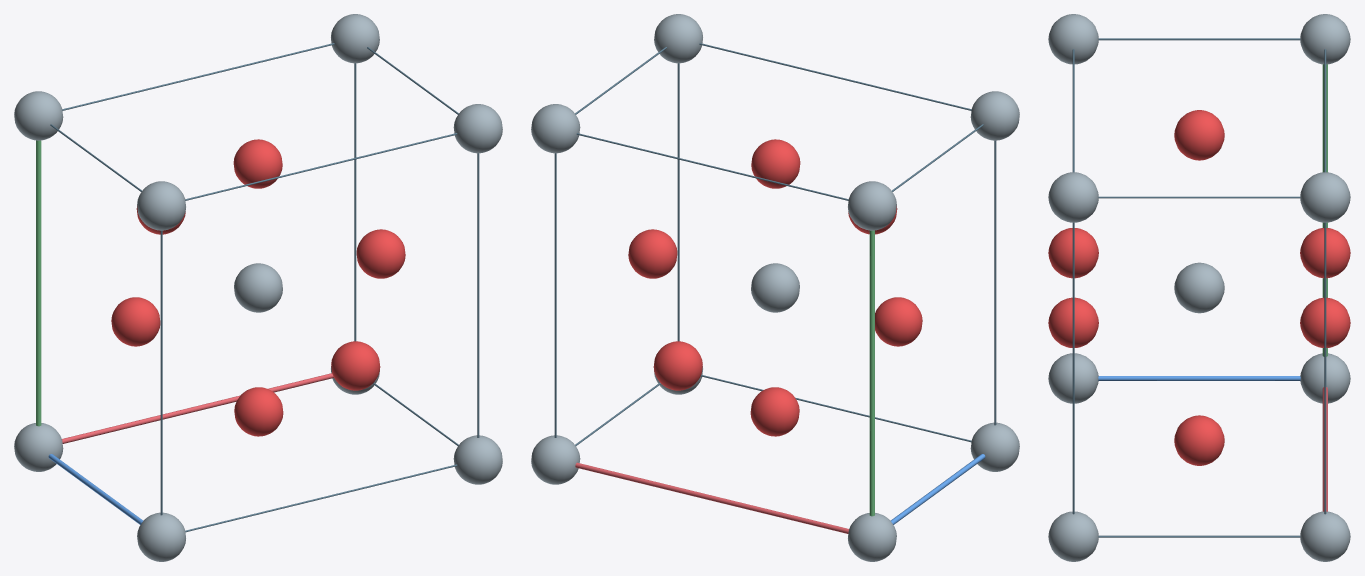
The model's file is cassiterite.glb.
3 renders of one model, left to right at view 1: azimuth 30°, elevation 25°; view 2: azimuth 150°, elevation 25°; view 3: azimuth 270°, elevation 25°, orthographic. The views are drawn at different scales.
Parts seen in each view (by area): view 1: Sn · Sn · 1 (×8), O · O · 1 (×5), Ô mạng và các trục a, b, c; view 2: Sn · Sn · 1 (×8), O · O · 1 (×5), Ô mạng và các trục a, b, c; view 3: Sn · Sn · 1 (×9), O · O · 1 (×6), Ô mạng và các trục a, b, c.
Boxes of the visible parts, <box> form: Sn · Sn · 1 (×8): <box>14,14,502,561</box>; O · O · 1 (×5): <box>111,139,405,436</box>; Ô mạng và các trục a, b, c: <box>36,43,479,532</box>; Sn · Sn · 1 (×8): <box>531,14,1019,561</box>; O · O · 1 (×5): <box>628,139,922,436</box>; Ô mạng và các trục a, b, c: <box>554,43,996,533</box>; Sn · Sn · 1 (×9): <box>1048,14,1350,561</box>; O · O · 1 (×6): <box>1048,110,1350,465</box>; Ô mạng và các trục a, b, c: <box>1072,38,1327,537</box>.
Size of the model in its own units: 5.38 by 5.38 by 3.82.
